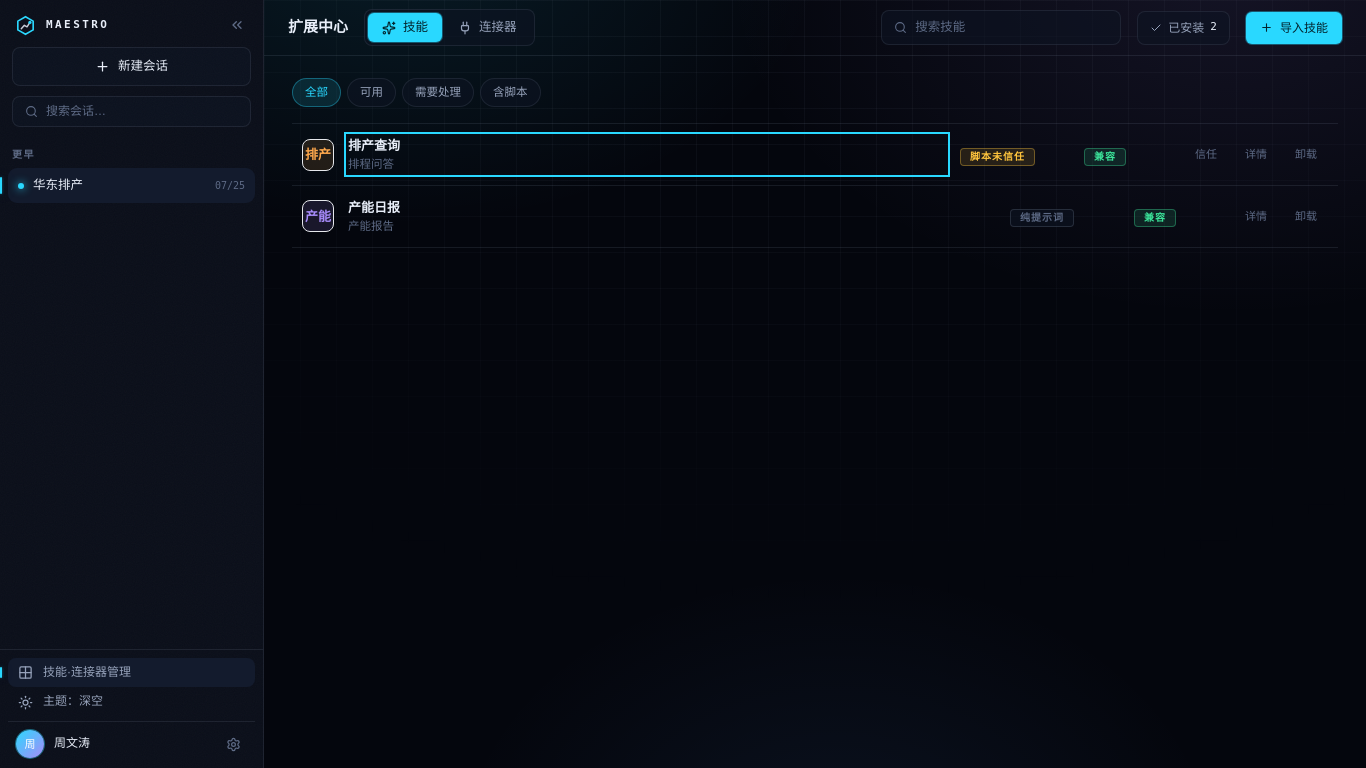
Test: 技能管理 › 详情抽屉 Esc 关闭并把焦点还给触发按钮
This screenshot has width=1366, height=768.
Click the button with aria-label "查看技能 排产查询 详情".
click(374, 146)  # box [348,136,946,173]
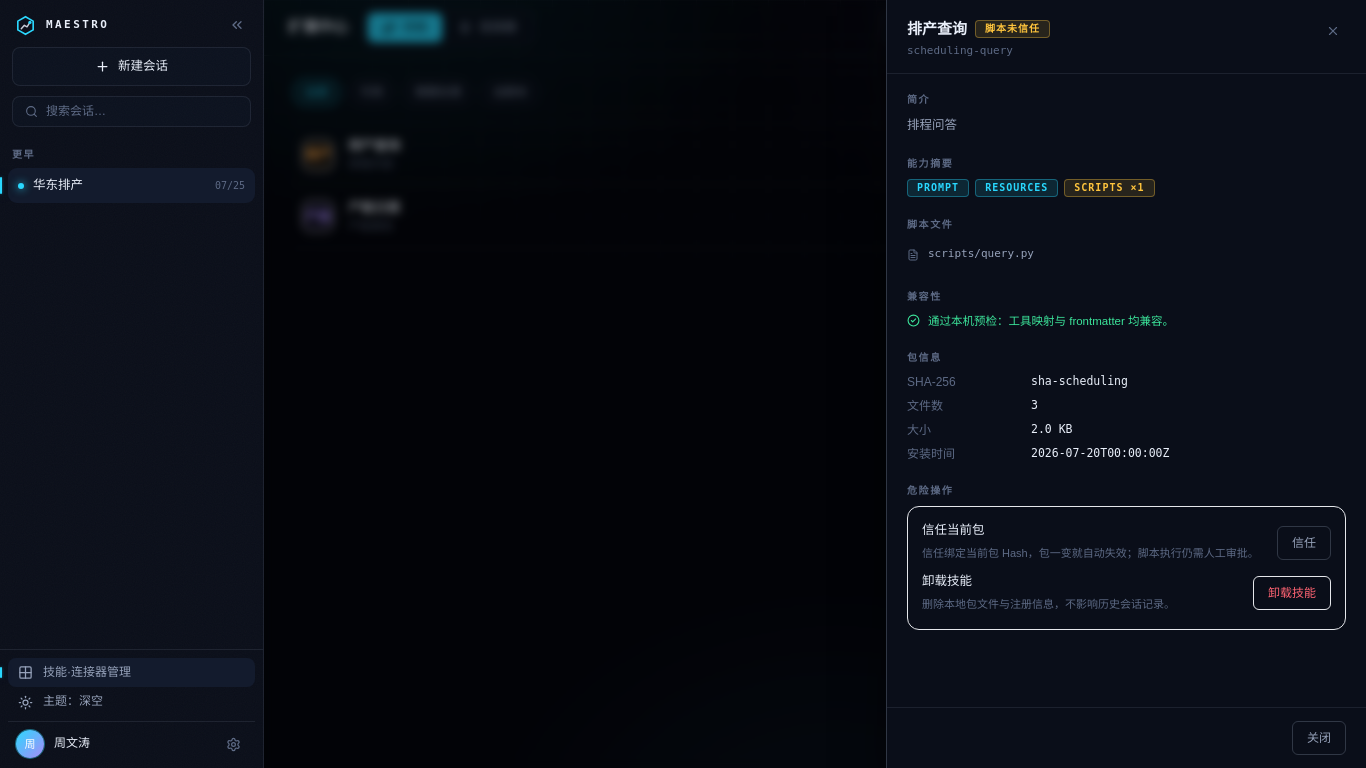
Expected: the text "sha-scheduling" is shown, [1031,374,1128,388]
Press Escape
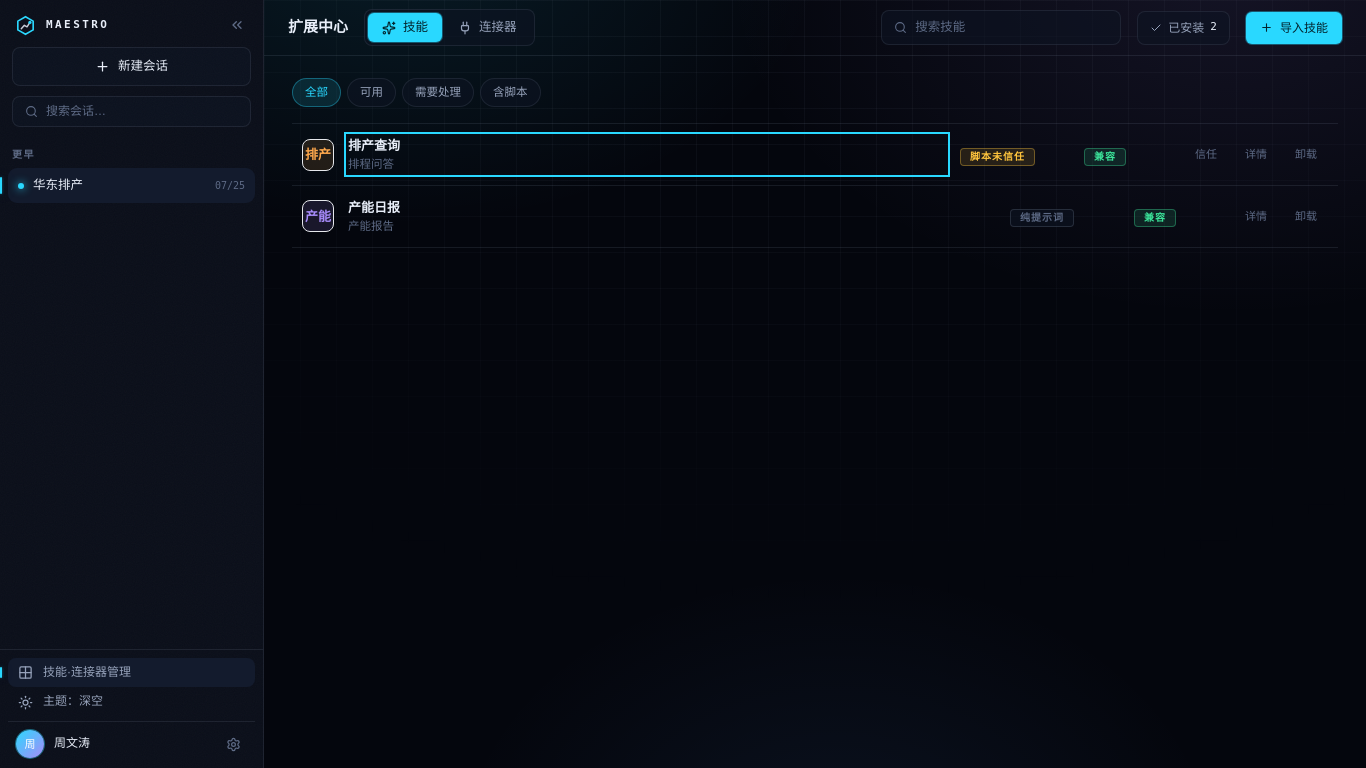
Expected: the dialog is gone
